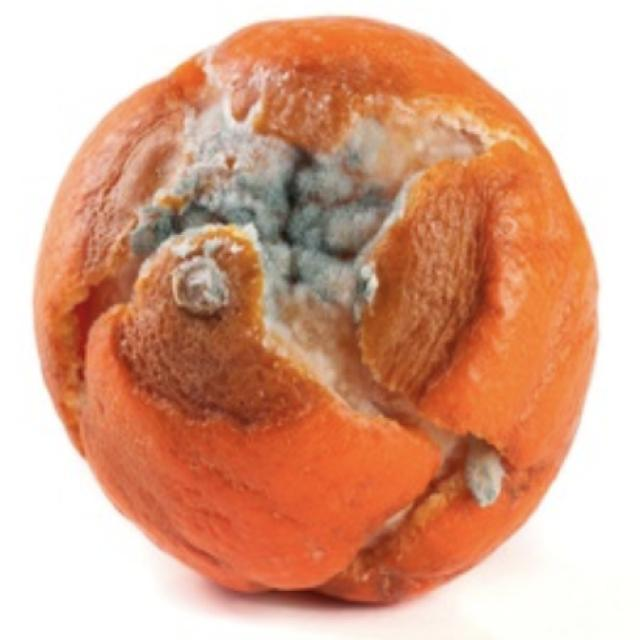sangat-busuk: (34, 19, 596, 602), (129, 95, 501, 415)
